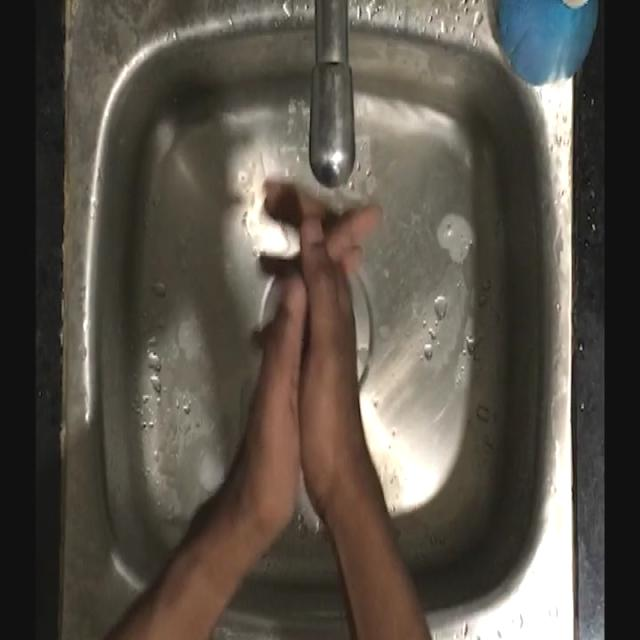step_3: (237, 163, 391, 462)
